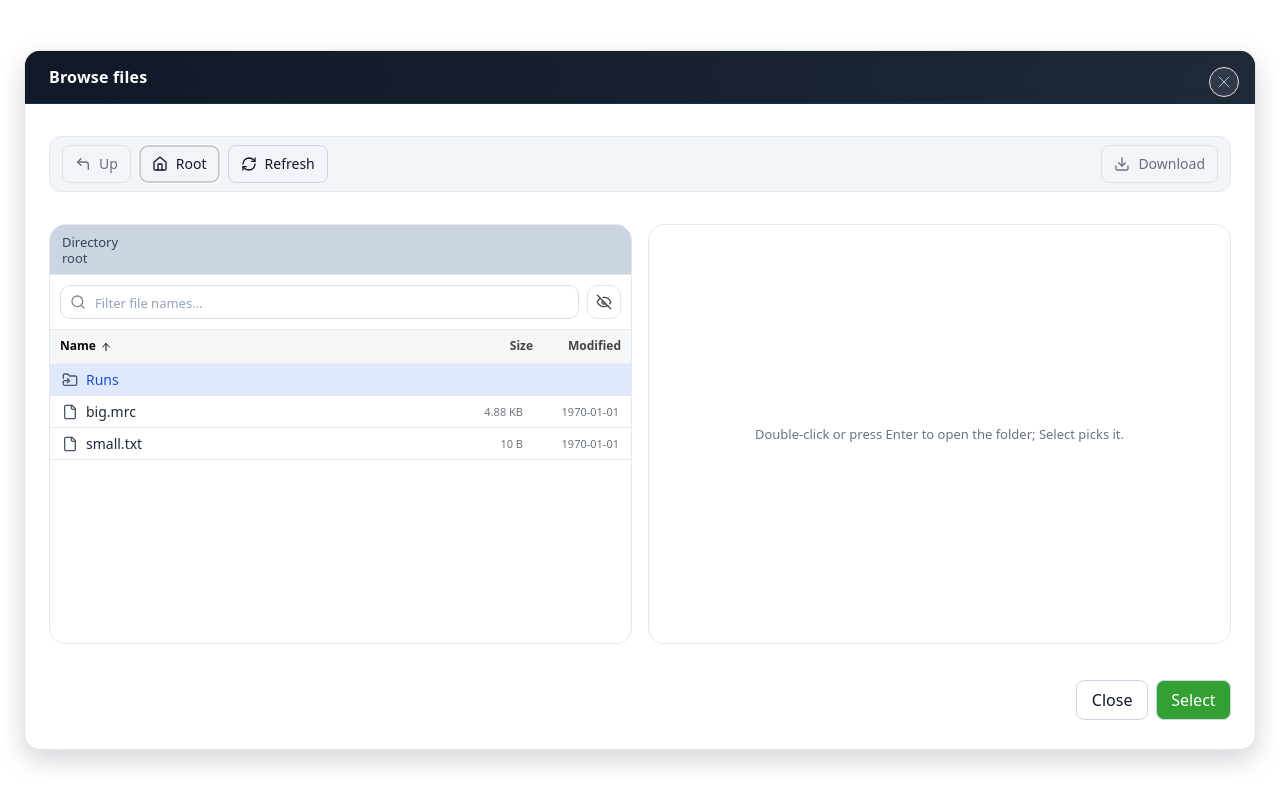
Test: RemoteFileDialog › hides hidden files until asked, and sorts by size and date with folders first
Expected: the text "Runs" is shown, [86,370,119,389]
Expected: the text ".thumbnail_cache" is not shown
Click the button with aria-label "Sort by size": [501, 347] box [469,338,533,355]
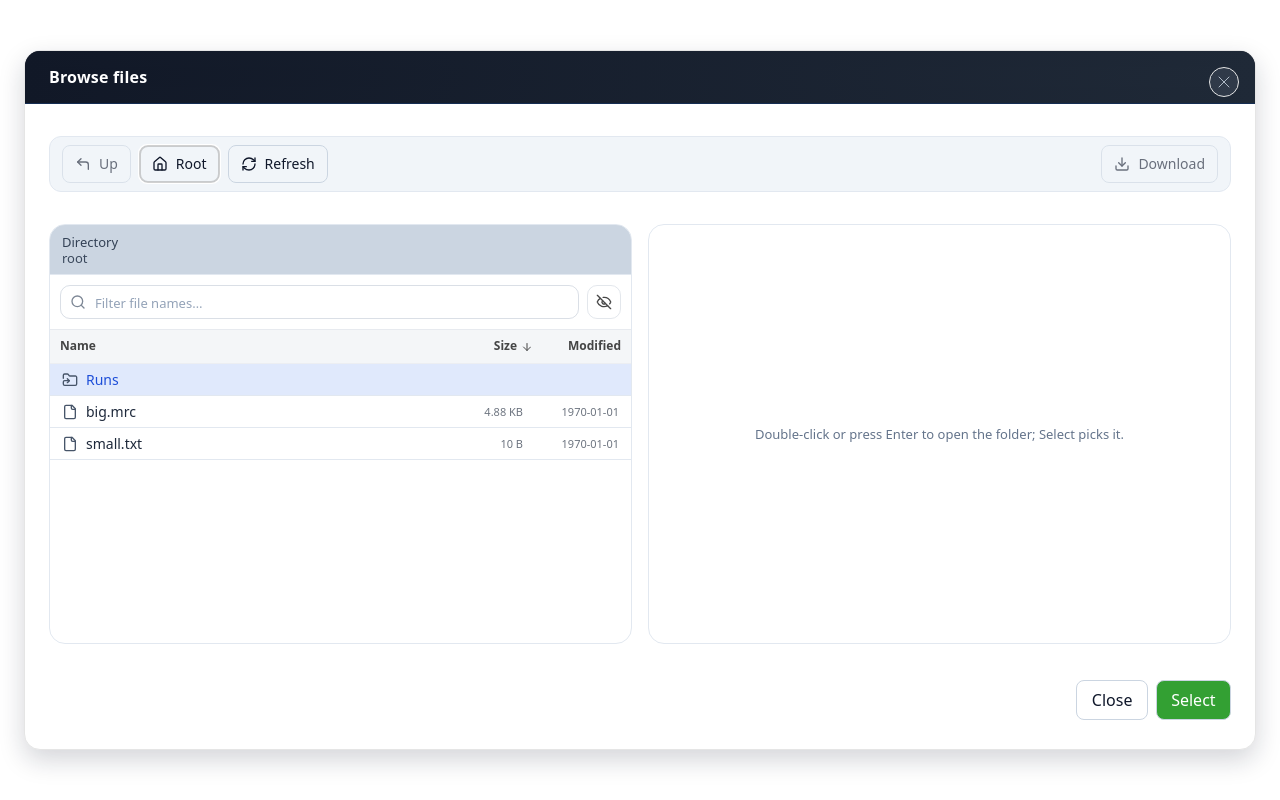
Click the button with aria-label "Sort by modified": [577, 347] box [533,338,621,355]
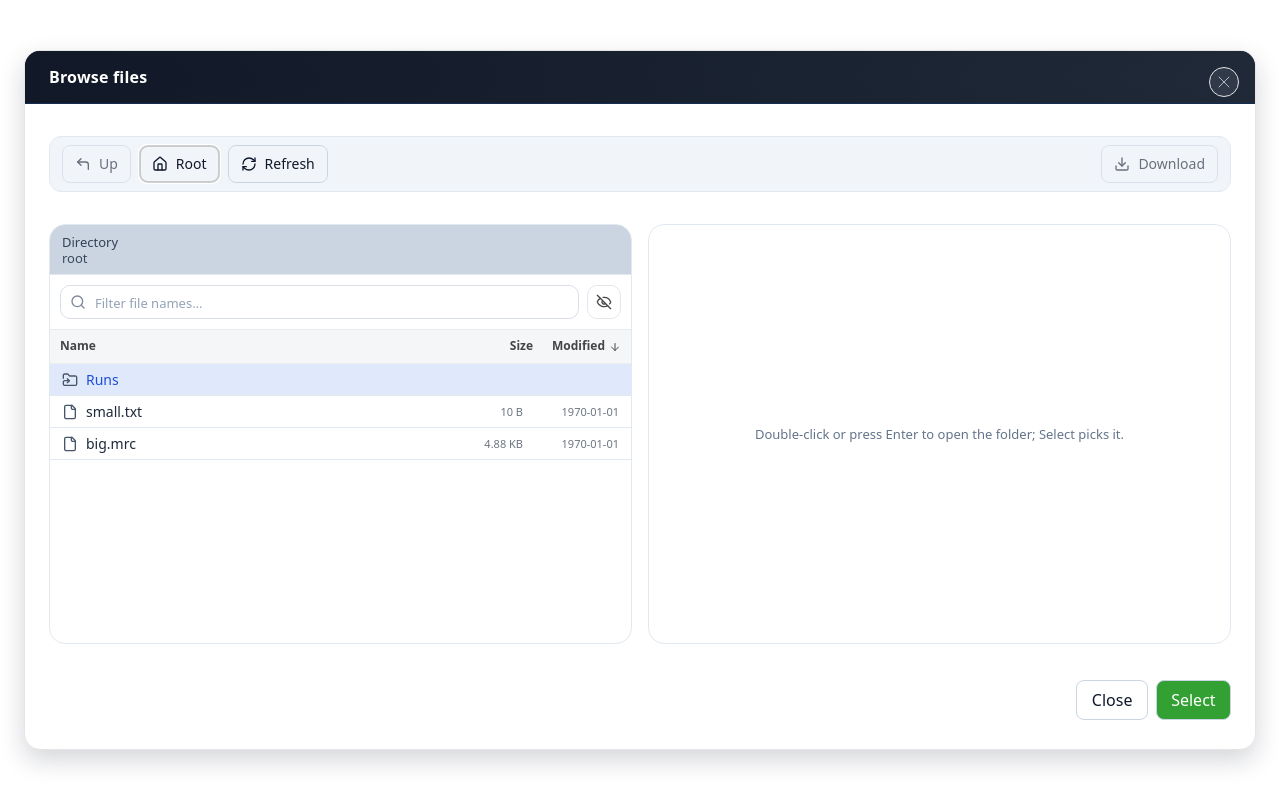
Click the button named "Show hidden files": [604, 302] box [587,285,621,319]
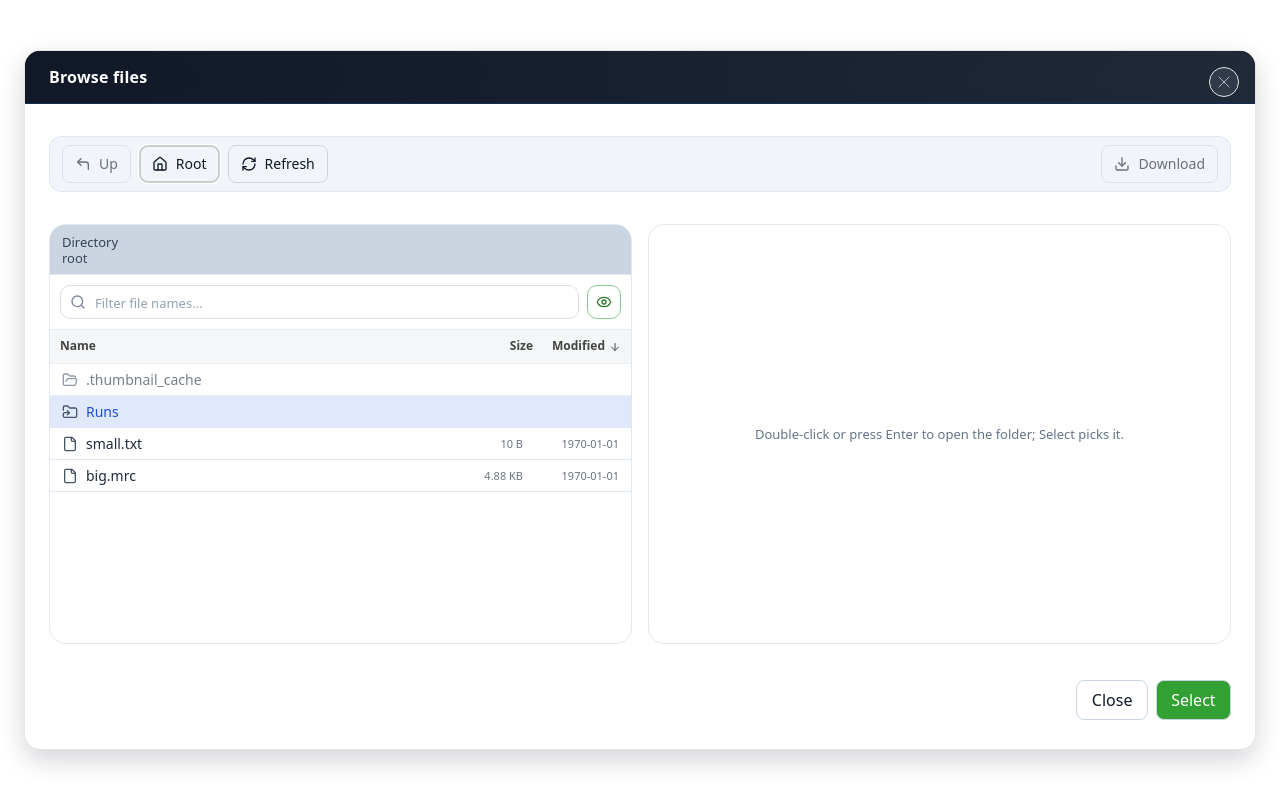
Expected: the option titled "Runs (link)" is shown, [50,396,631,428]
Expected: the text ".thumbnail_cache" is shown, [86,370,202,389]
